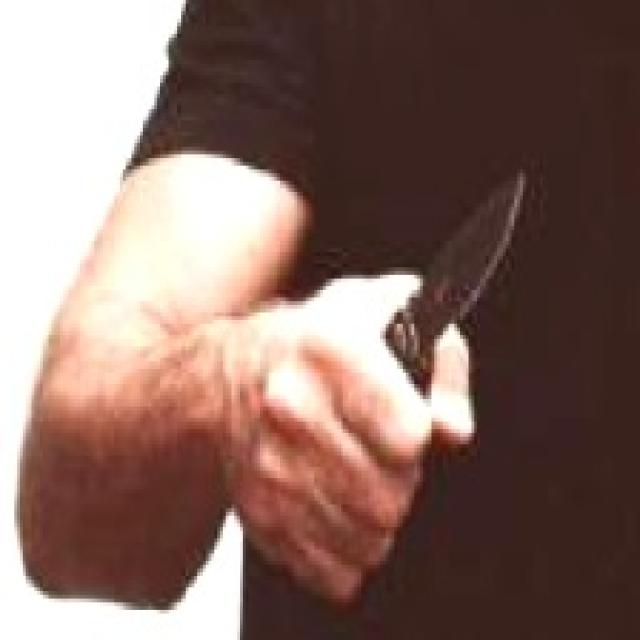knife: (385, 162, 533, 399)
